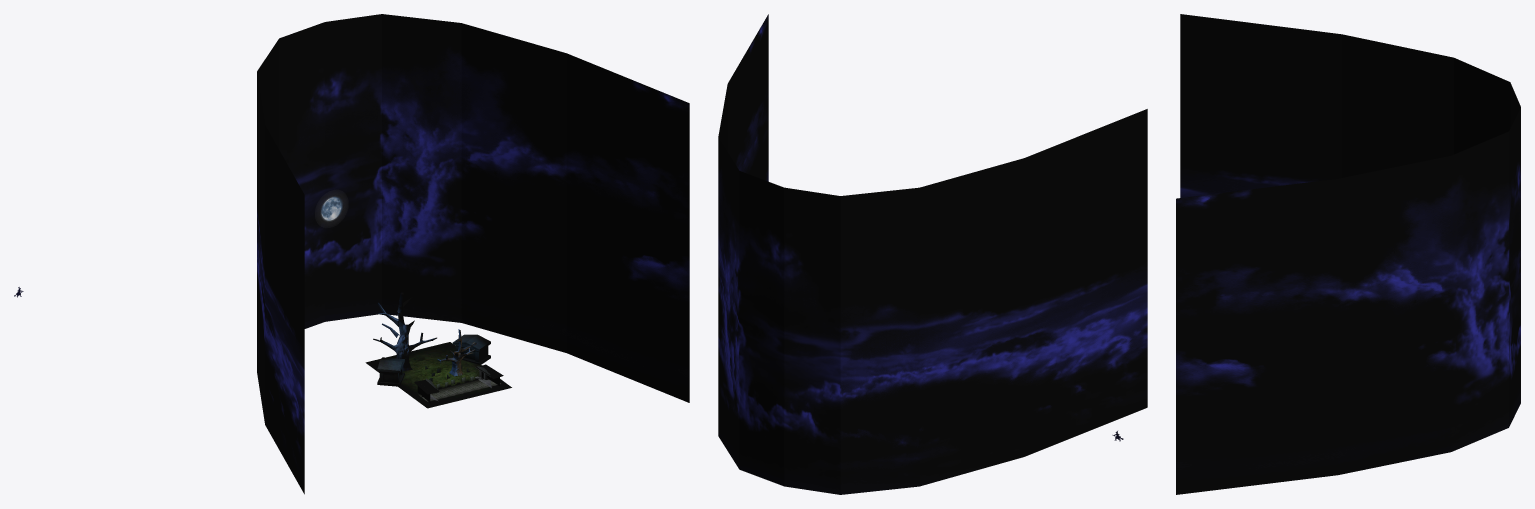
The model's file is UMK3iOSGraveyard.glb.
The picture shows the model from 3 angles, left to right: view 1: azimuth 30°, elevation 25°; view 2: azimuth 150°, elevation 25°; view 3: azimuth 270°, elevation 25°; orthographic projection.
Visible parts, largest first — view 1: Sky, 33_Plane001, 56_tree001, 10_tomb001, 54_Box029, 11_tomb003; view 2: Sky; view 3: Sky.
Boxes of the visible parts, box(x1,y1,x2,y2) form: Sky: box(257, 14, 689, 494); 33_Plane001: box(365, 342, 511, 408); 56_tree001: box(373, 292, 436, 371); 10_tomb001: box(452, 334, 490, 364); 54_Box029: box(414, 364, 503, 402); 11_tomb003: box(377, 357, 404, 386); Sky: box(718, 14, 1147, 494); Sky: box(1176, 14, 1520, 494).
Bounding box in the file's own units: 174 × 96.7 × 102.
27 materials, 27 textured.
